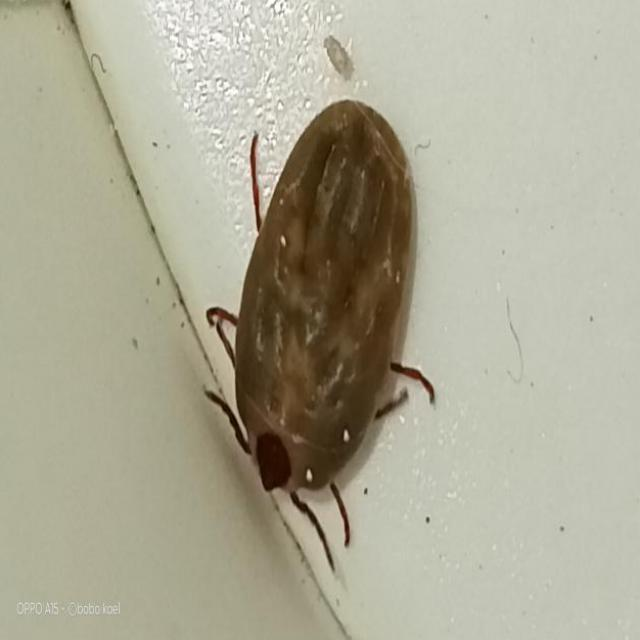Rhipicephalus Sanguineus-F-Fed: (203, 100, 436, 579)
